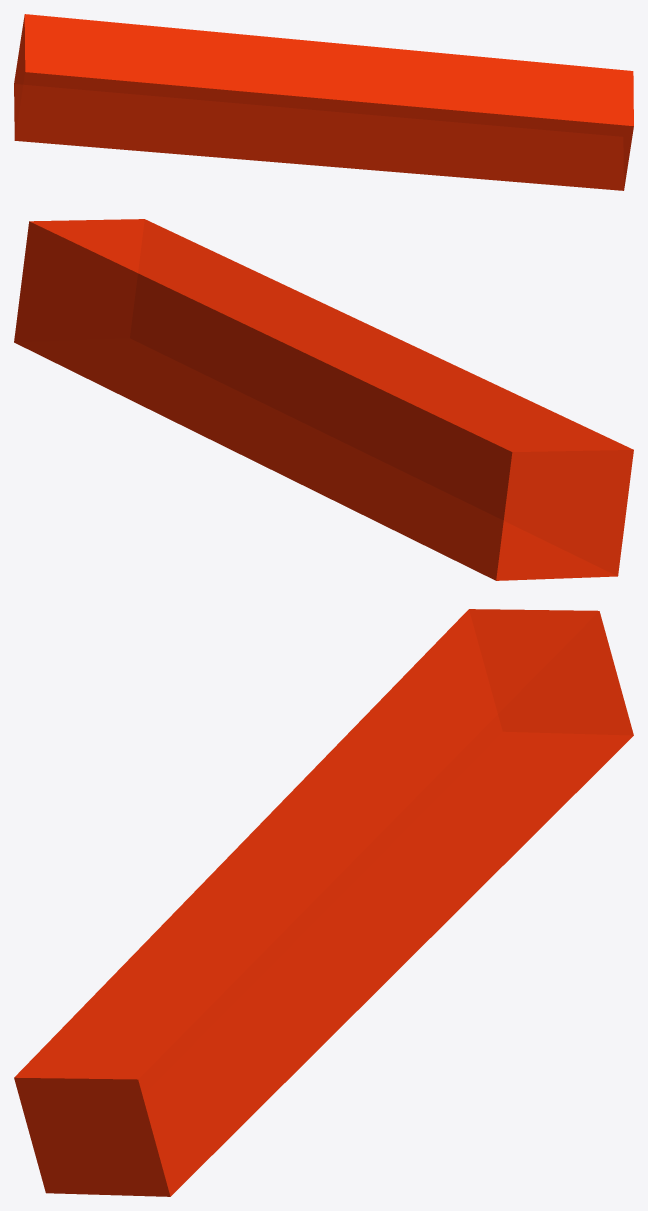
The model's file is Event_421556567_EBrechit_4.fbx.
3 renders of one model, top to bottom at view 1: azimuth 30°, elevation 25°; view 2: azimuth 150°, elevation 25°; view 3: azimuth 270°, elevation 25°, orthographic. The views are drawn at different scales.
Visible parts, largest first — view 1: Model; view 2: Model; view 3: Model.
Part boxes in pixels (x1,y1,x2,y2): Model: (14,14,633,190); Model: (14,219,633,580); Model: (14,609,633,1196).
Size of the model in its own units: 0.3941 by 0.1154 by 0.2611.
